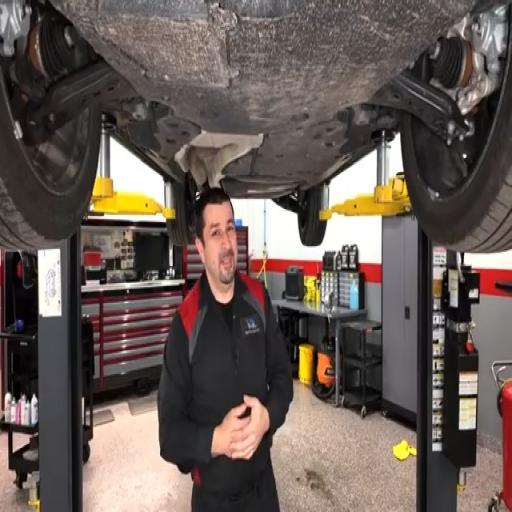tire: (400, 39, 511, 253), (0, 76, 101, 250), (297, 187, 327, 246), (167, 183, 192, 246)
wheel: (401, 30, 511, 253), (167, 180, 196, 246)
